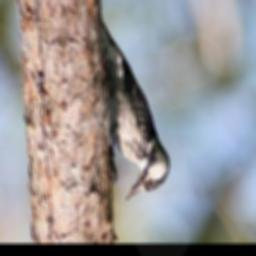Woodpecker: (101, 11, 170, 203)
